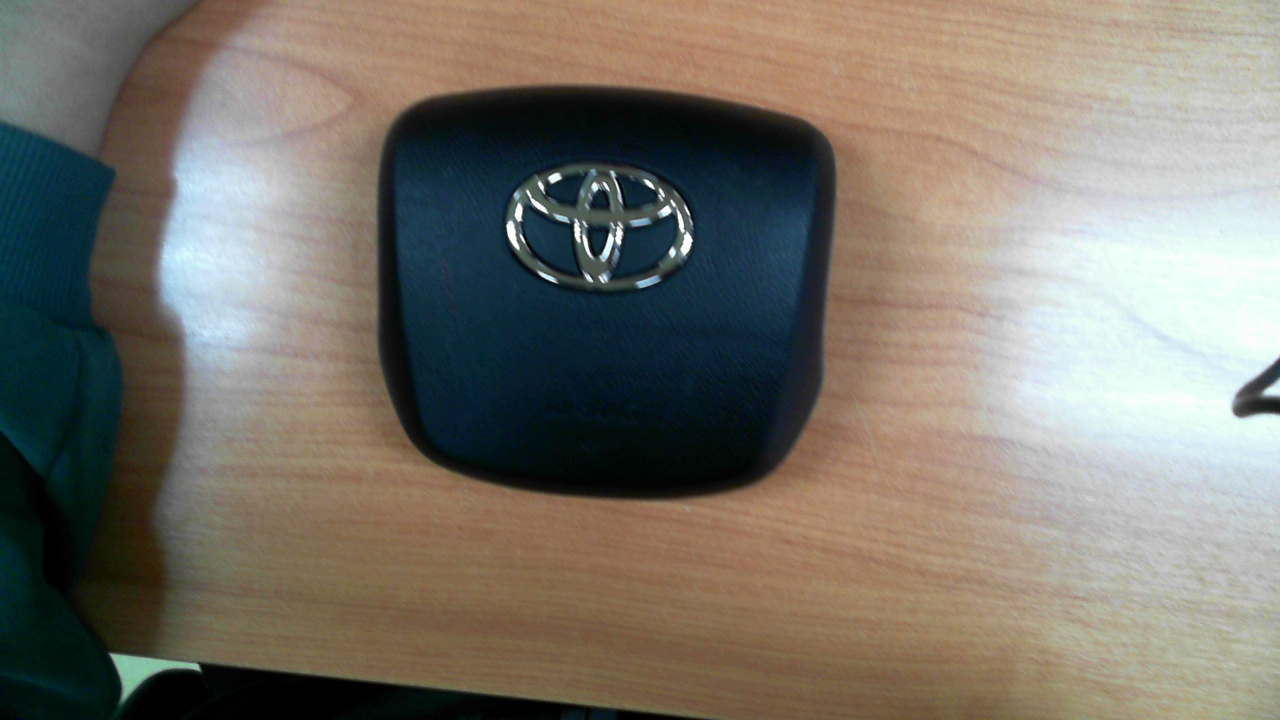Airbag: (376, 83, 838, 502)
Toyota: (506, 163, 694, 291)
